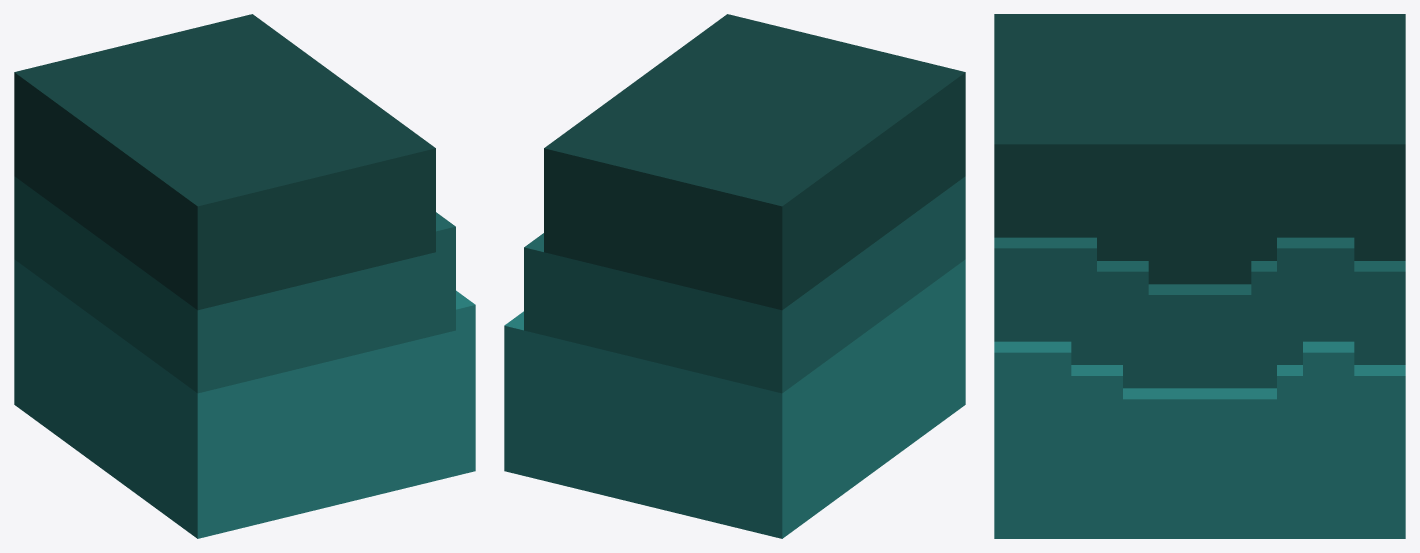
Rendered from WinterGrass-14.obj.
The picture shows the model from 3 angles, left to right: view 1: azimuth 30°, elevation 25°; view 2: azimuth 150°, elevation 25°; view 3: azimuth 270°, elevation 25°; orthographic projection. The views are drawn at different scales.
Bounding box in the file's own units: 1.4 × 1.6 × 1.6.
1 material, 1 textured.
